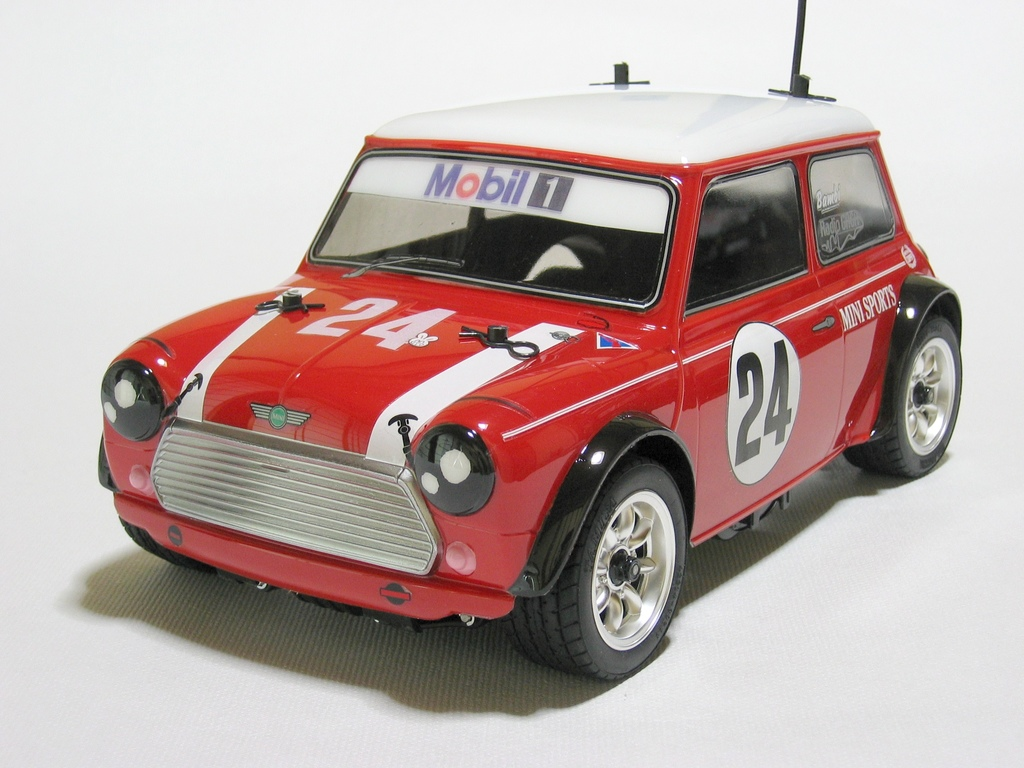Car: (91, 77, 968, 690)
